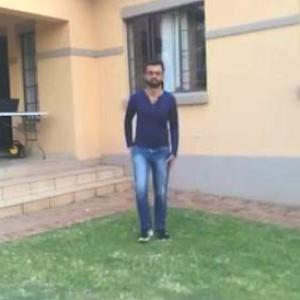follow: (120, 51, 180, 253)
